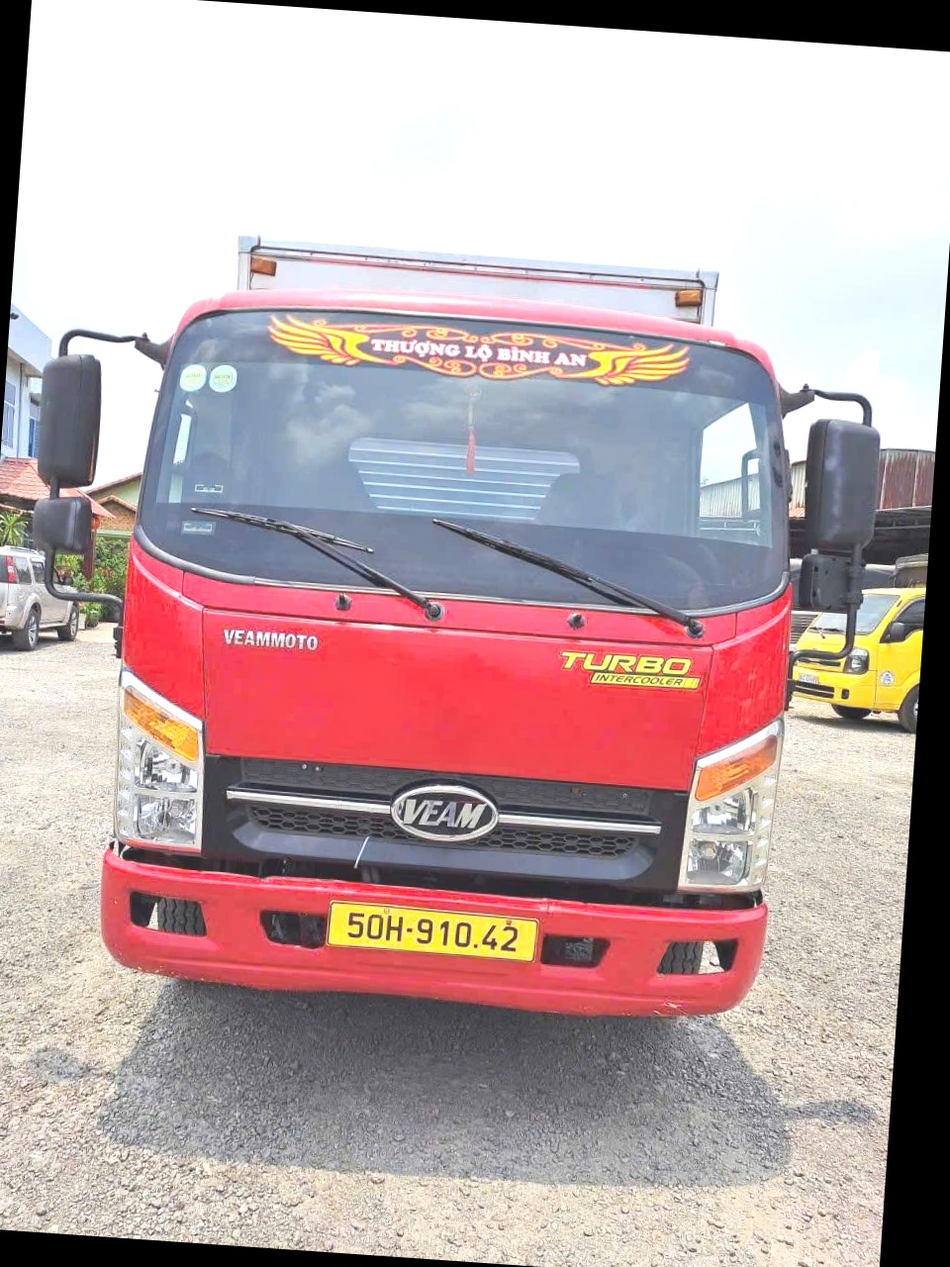Bien-so: (390, 933, 606, 1000)
